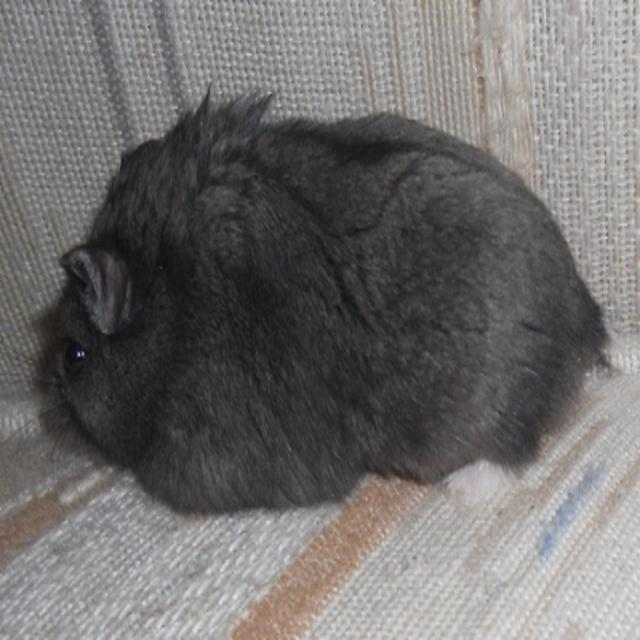rat: (0, 80, 620, 502)
